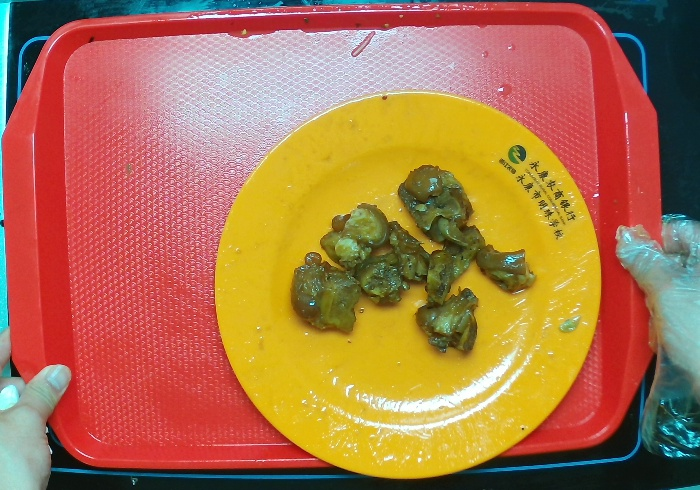YKMZ-Ju_Se_Mian_Pan: (212, 88, 605, 483)
